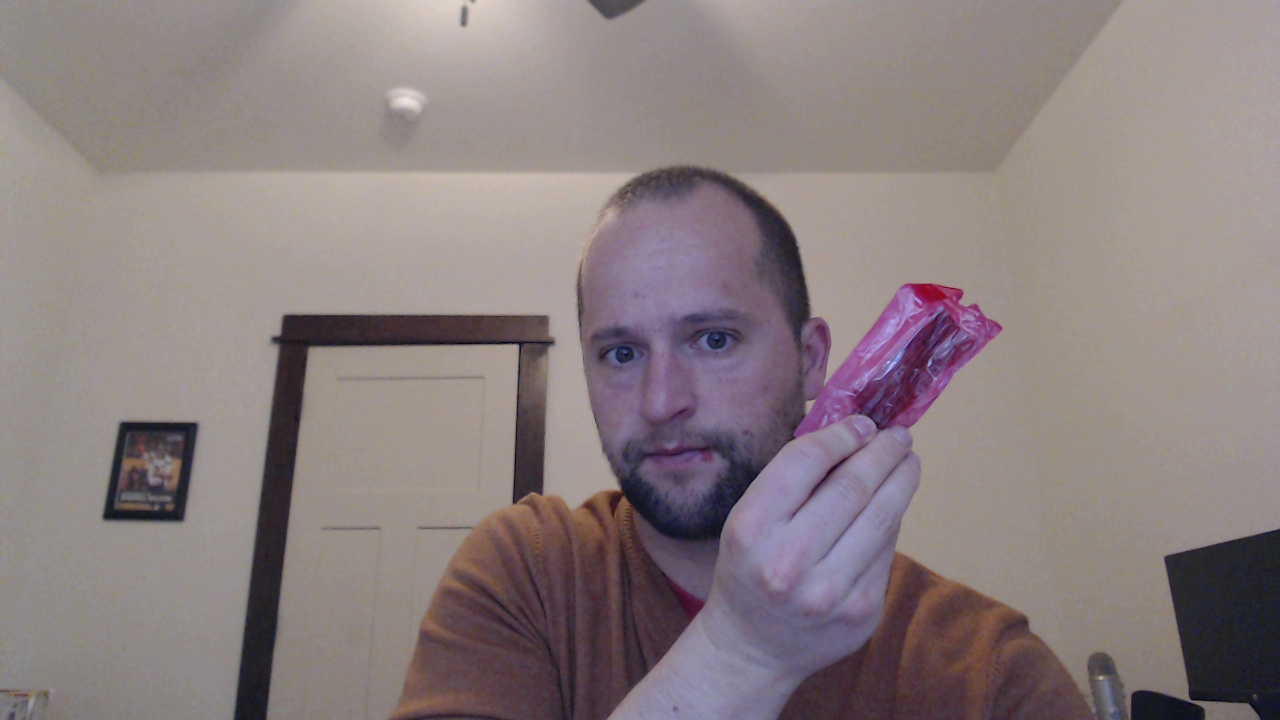twizzlers: (800, 267, 1008, 486)
